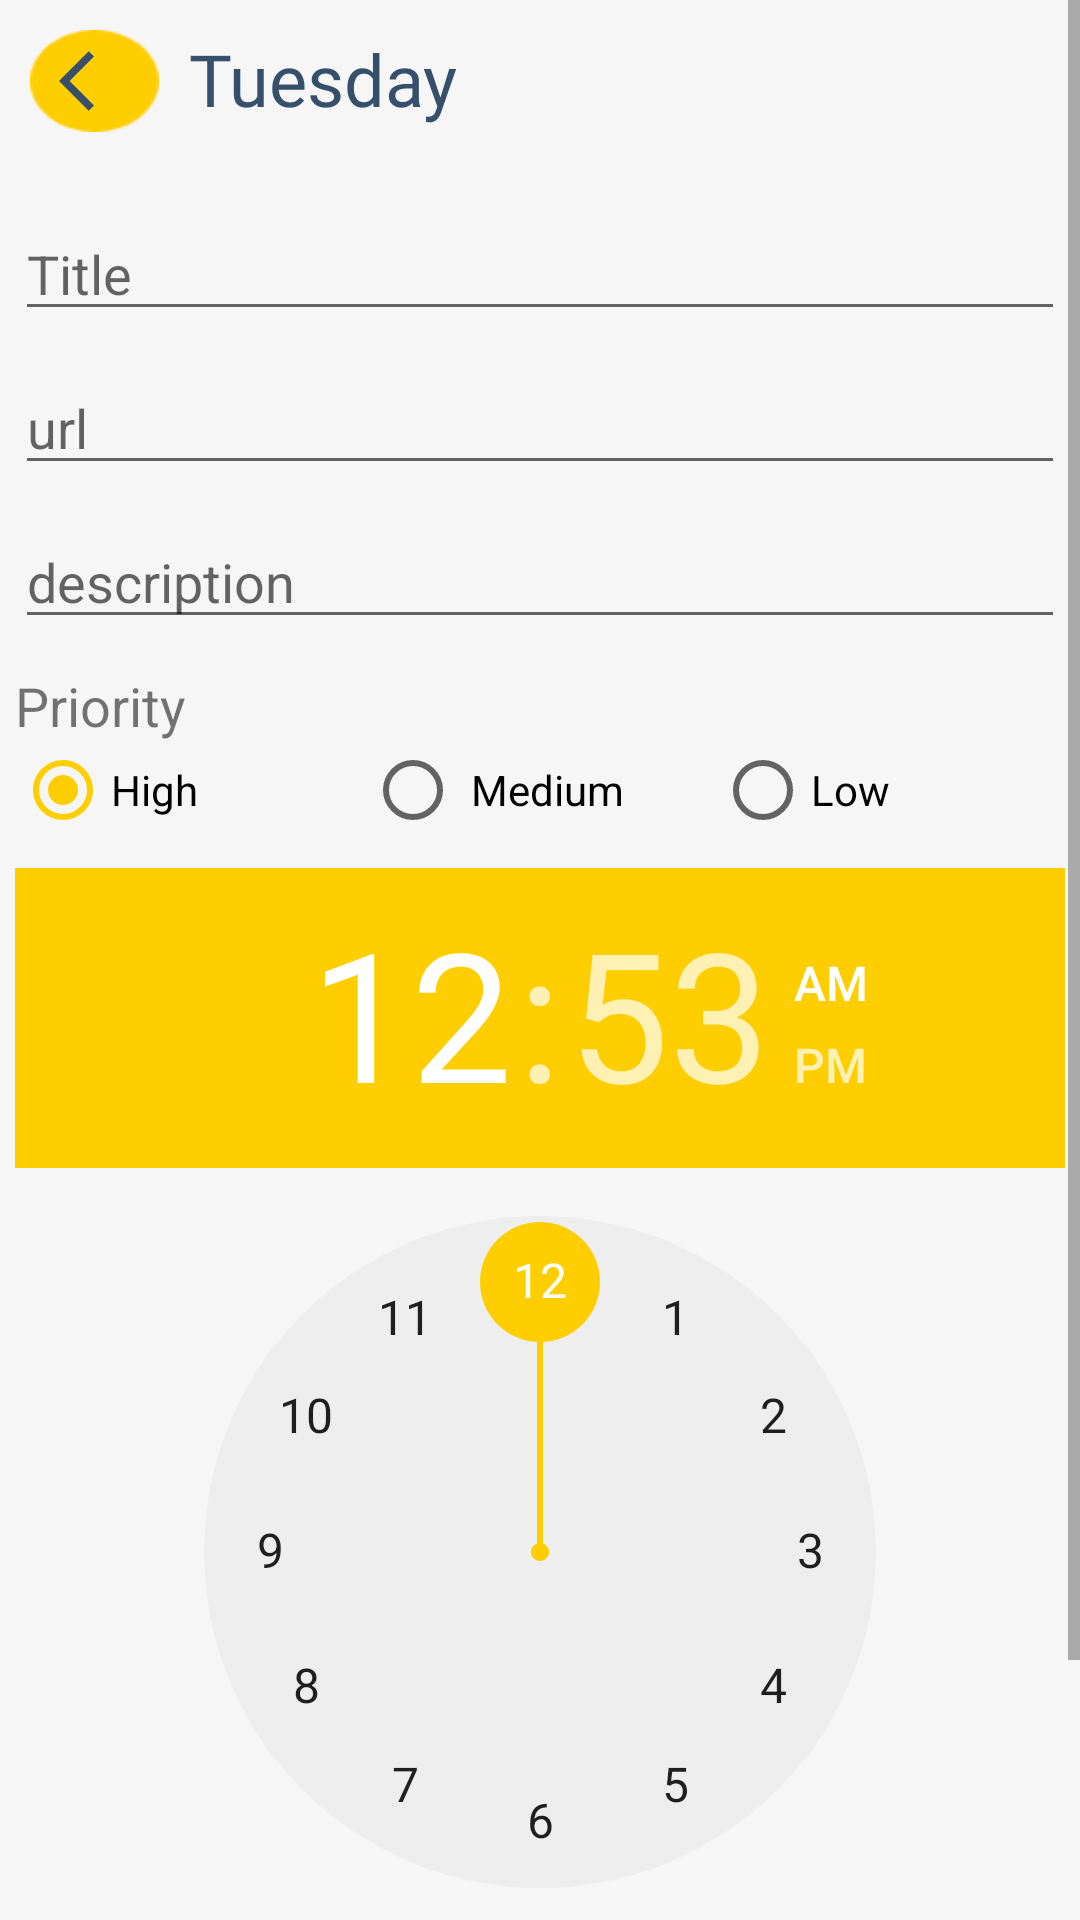

Locate icon controls on the screen. Image size 1080px×1920px, boxes as {"x1": x1, "y1": y1, "x2": x2, "y2": y2}.
arrow back: {"x1": 30, "y1": 30, "x2": 159, "y2": 132}
